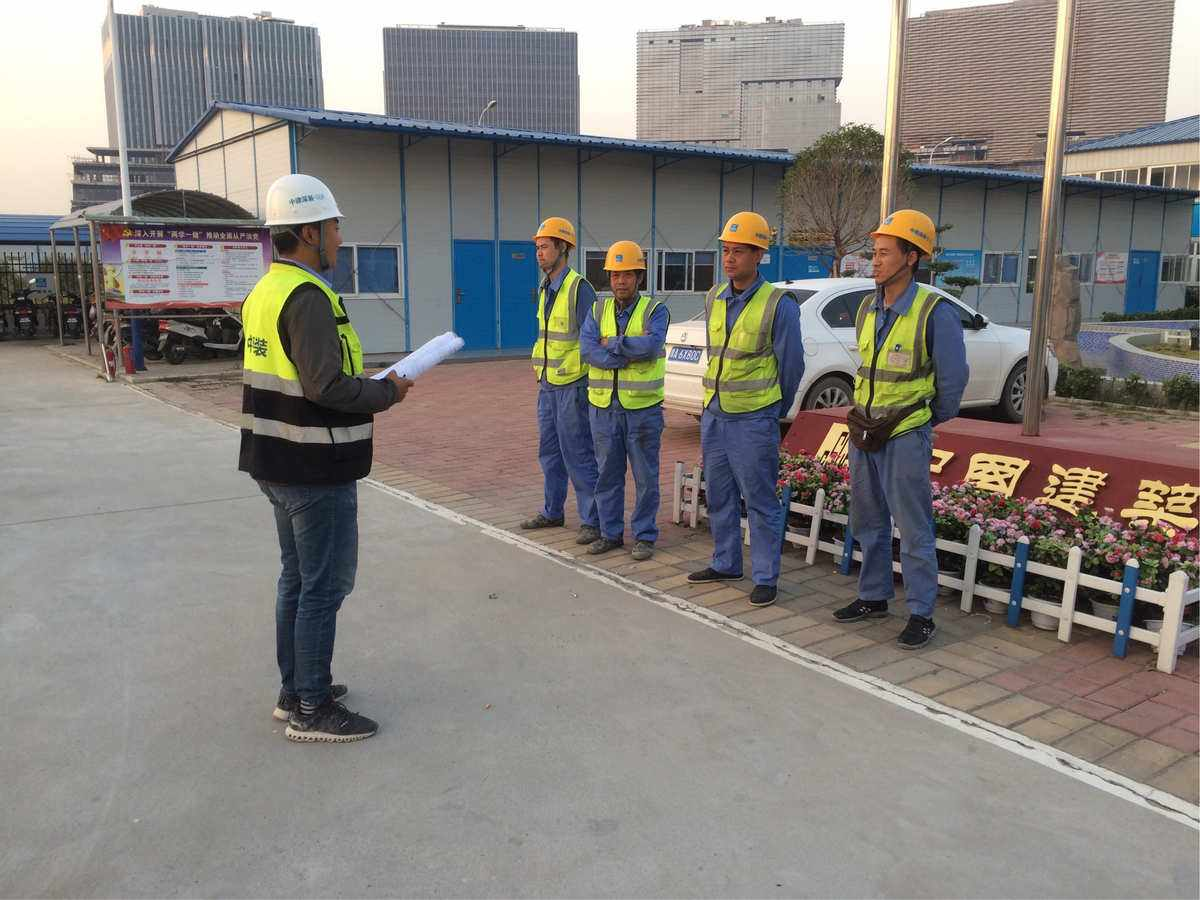person: (232, 173, 417, 742), (829, 207, 970, 651), (682, 208, 807, 607), (580, 239, 671, 561), (517, 216, 599, 545)
reflective_vest: (236, 261, 375, 486), (850, 285, 946, 438), (697, 281, 796, 416), (585, 293, 670, 410), (529, 268, 592, 388)
safety_helmet: (261, 171, 346, 269), (868, 205, 937, 286), (717, 208, 773, 288), (602, 239, 647, 301), (529, 216, 578, 269)
